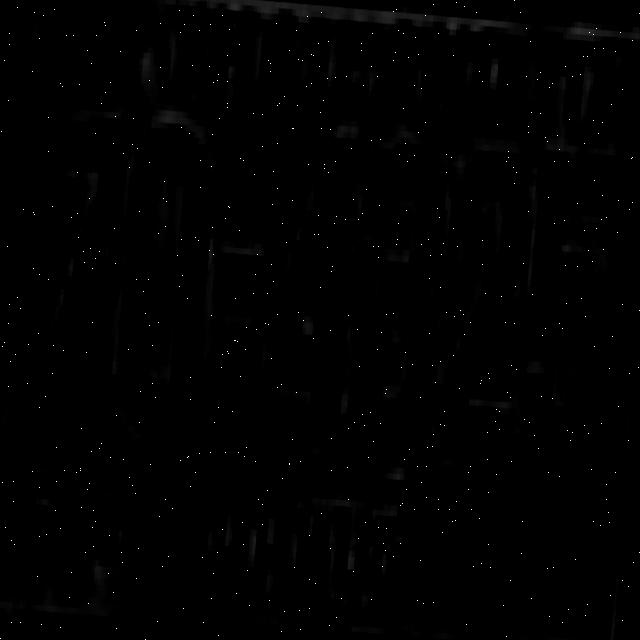0: (105, 99, 232, 468)
2: (424, 138, 548, 490)
3: (344, 132, 461, 472)
4: (246, 130, 374, 476)
5: (508, 146, 628, 505)
7: (19, 91, 140, 461)
Nonthaburi: (183, 457, 427, 640)
